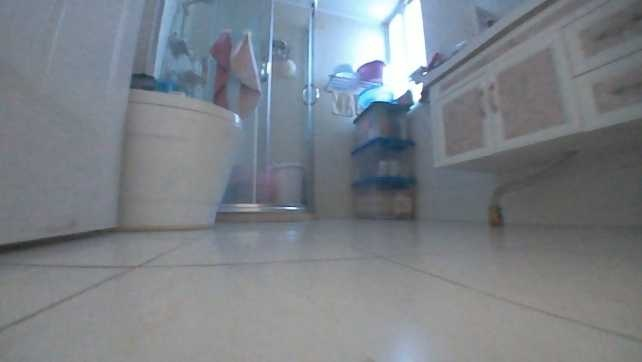toilet_part: (120, 87, 242, 230)
washstand: (420, 0, 640, 169)
